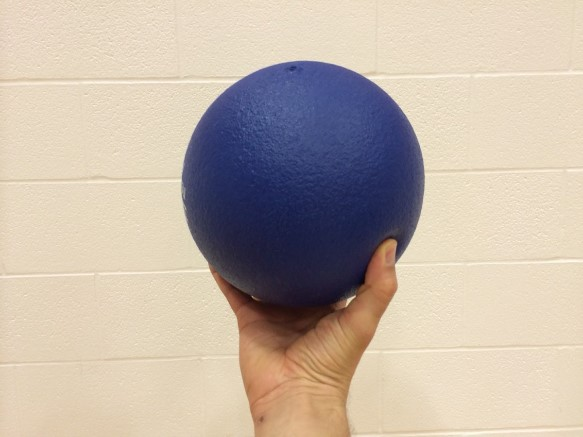blue ball: (181, 60, 429, 307)
